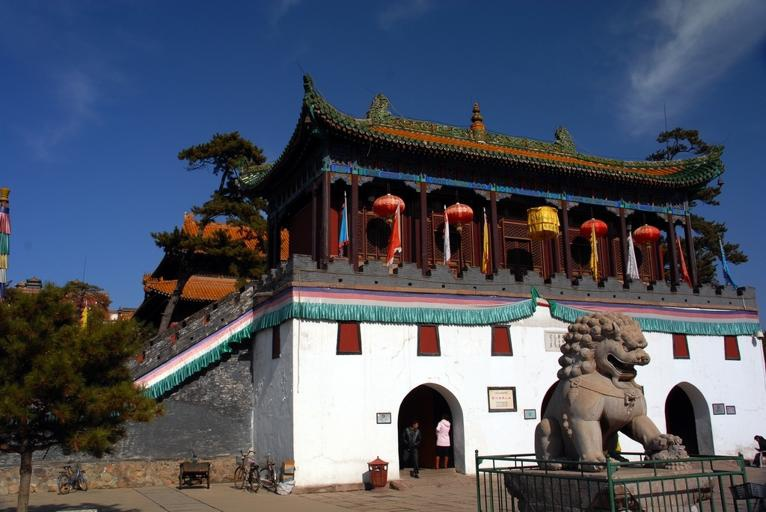non-vehicle: (55, 454, 91, 493), (231, 447, 260, 491), (258, 452, 278, 494)
